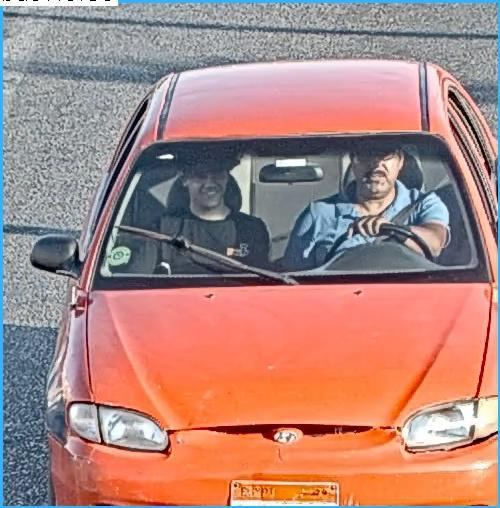windshield: (87, 117, 490, 294)
